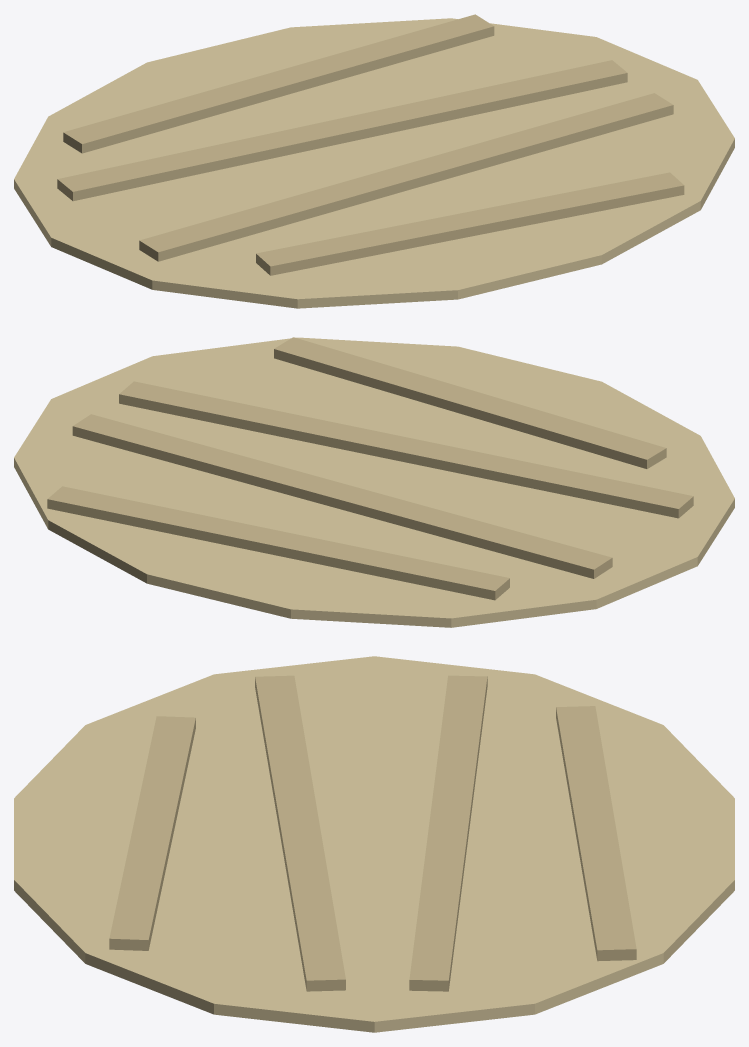
The model's file is env_r15_sand_ripple_patch.glb.
The picture shows the model from 3 angles, top to bottom: view 1: azimuth 30°, elevation 25°; view 2: azimuth 150°, elevation 25°; view 3: azimuth 270°, elevation 25°; orthographic projection. The views are drawn at different scales.
Parts seen in each view (by area): view 1: env_r15_sand_ripple_patch; view 2: env_r15_sand_ripple_patch; view 3: env_r15_sand_ripple_patch.
Part boxes in pixels (box(x1,y1,x2,y2)): env_r15_sand_ripple_patch: box(14, 14, 734, 308); env_r15_sand_ripple_patch: box(14, 337, 734, 627); env_r15_sand_ripple_patch: box(14, 656, 734, 1032).
Size of the model in its own units: 3.6 by 0.1 by 3.
1 material, 1 textured.
